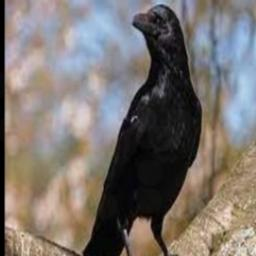Crow: (82, 4, 202, 256)
